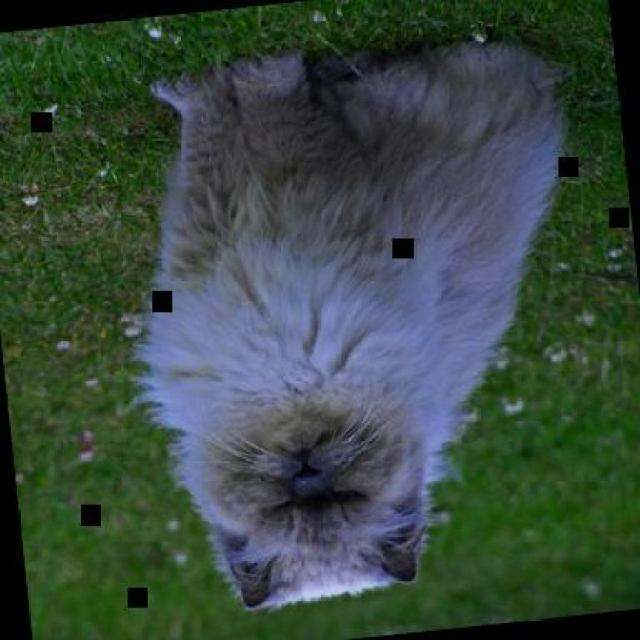cat: (128, 26, 608, 617)
